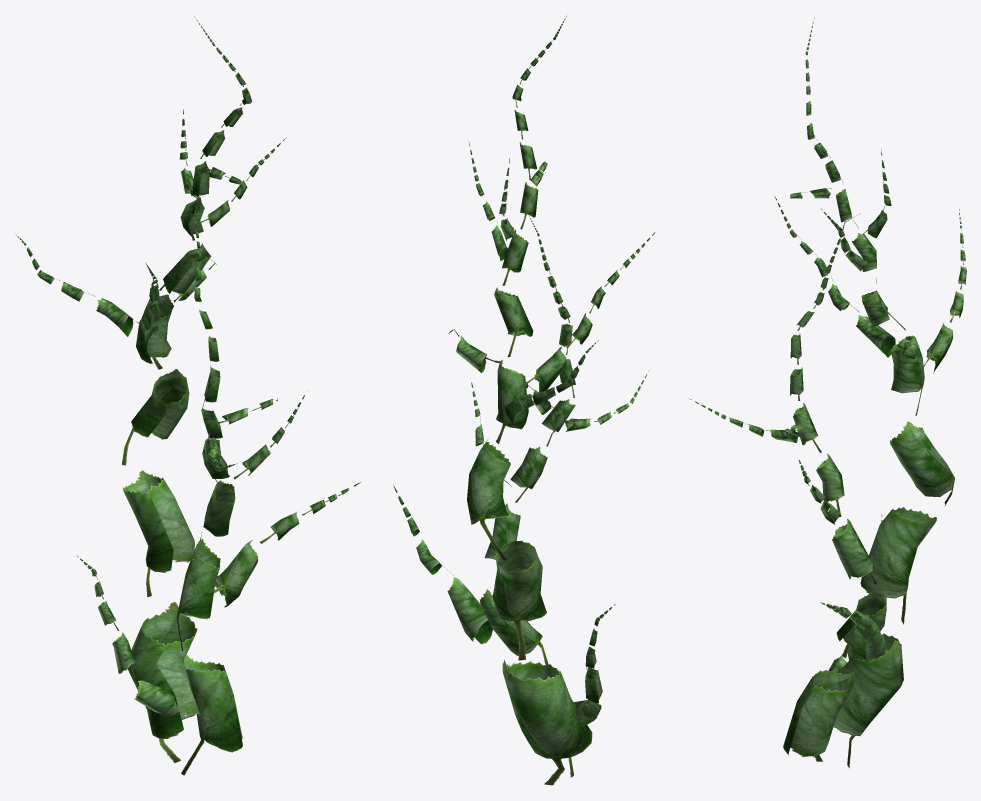
Rendered from TreeFBX.fbx.
3 renders of one model, left to right at view 1: azimuth 30°, elevation 25°; view 2: azimuth 150°, elevation 25°; view 3: azimuth 270°, elevation 25°, orthographic.
Visible parts, largest first — view 1: Tree1; view 2: Tree1; view 3: Tree1.
Boxes of the visible parts, <box> form: Tree1: <box>16,16,361,775</box>; Tree1: <box>393,16,655,785</box>; Tree1: <box>688,17,966,768</box>.
Bounding box in the file's own units: 764 × 2000 × 673.
